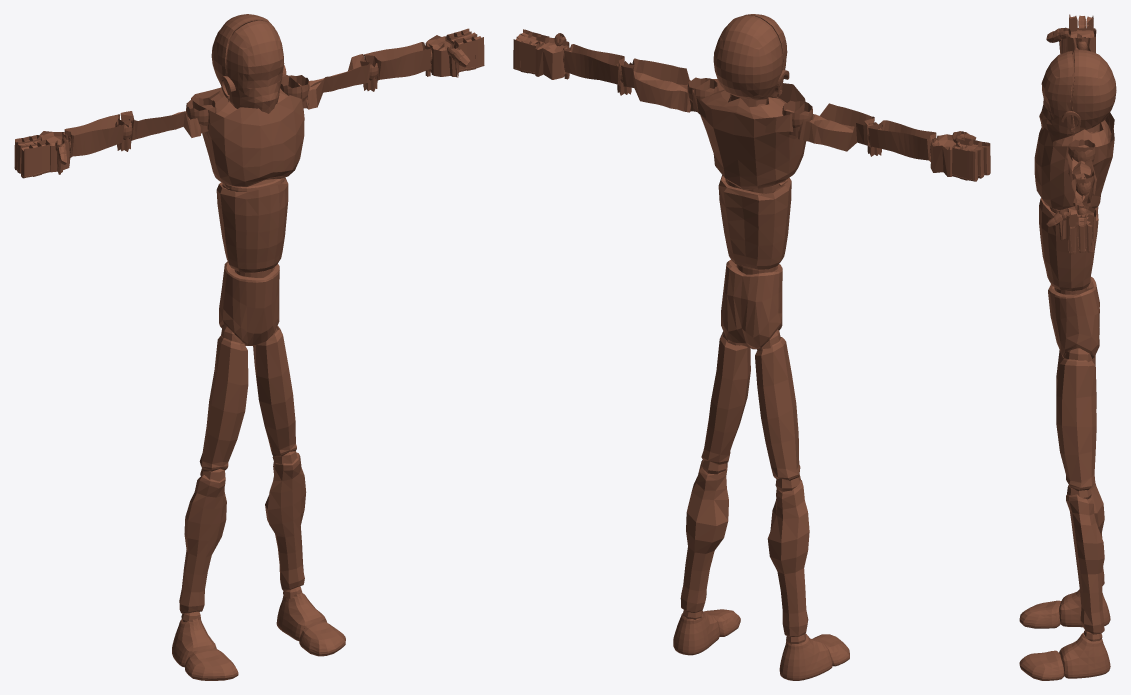
The model's file is 16bf6b5e-886e-4f5f-acd3-2b5375e60c7d.glb.
3 views of the same model, side by side, from view 1: azimuth 30°, elevation 25°; view 2: azimuth 150°, elevation 25°; view 3: azimuth 270°, elevation 25° (orthographic). The views are drawn at different scales.
Parts seen in each view (by area): view 1: base_mannequin.glb, base_mannequin.glb_2; view 2: base_mannequin.glb, base_mannequin.glb_2; view 3: base_mannequin.glb, base_mannequin.glb_2.
Boxes of the visible parts, box(x1,y1,x2,y2) form: base_mannequin.glb: box(14, 14, 484, 680); base_mannequin.glb_2: box(62, 48, 432, 621); base_mannequin.glb: box(513, 14, 990, 680); base_mannequin.glb_2: box(563, 50, 939, 644); base_mannequin.glb: box(1019, 14, 1116, 680); base_mannequin.glb_2: box(1049, 41, 1102, 641).
Size of the model in its own units: 1.64 by 2.14 by 0.3162.
Materials: 3 (3 with a texture image).
